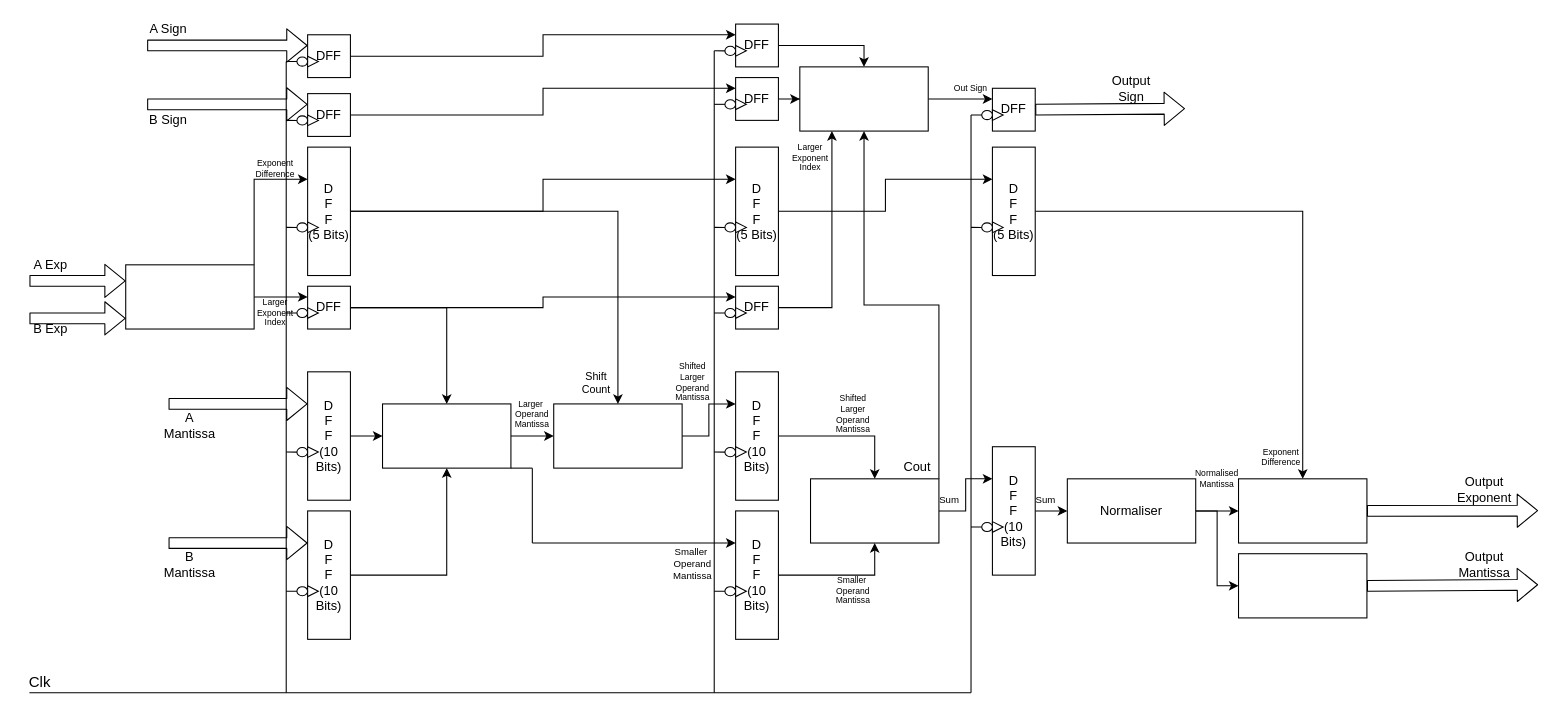
The diagram is 1556 pixels wide and 713 high, and some of its shapes have lost their labels. Here are the shapes that lost their labels. From the top down, the centre of each, then its label:
At (863,98): "Sign Logic".
At (189,296): "Exponent Subtractor".
At (446,435): "Mantissa Swapper".
At (617,435): "Right Shifter".
At (874,510): "Mantissa Adder".
At (1302,510): "Exponent Updater".
At (1302,585): "Round".
